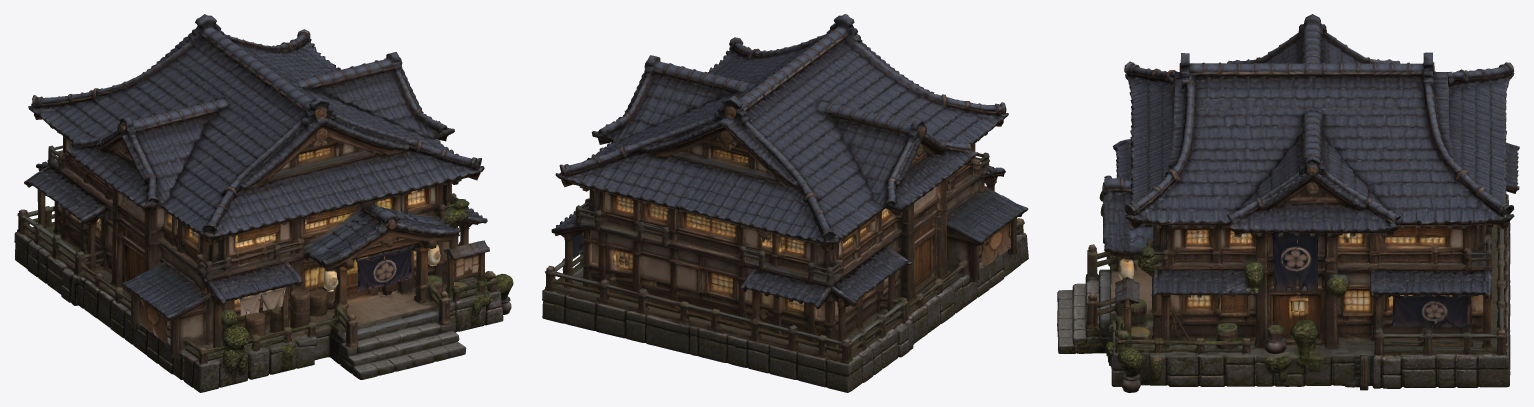
Rendered from クエスト場.fbx.
3 renders of one model, left to right at view 1: azimuth 30°, elevation 25°; view 2: azimuth 150°, elevation 25°; view 3: azimuth 270°, elevation 25°, orthographic. The views are drawn at different scales.
Parts seen in each view (by area): view 1: traditional japanese building 3d model; view 2: traditional japanese building 3d model; view 3: traditional japanese building 3d model.
Part boxes in pixels (box(x1,y1,x2,y2)): traditional japanese building 3d model: box(14, 14, 513, 392); traditional japanese building 3d model: box(542, 14, 1028, 392); traditional japanese building 3d model: box(1057, 14, 1519, 392).
Bounding box in the file's own units: 88.03 × 58.94 × 97.09.
Materials: 1 (1 with a texture image).
